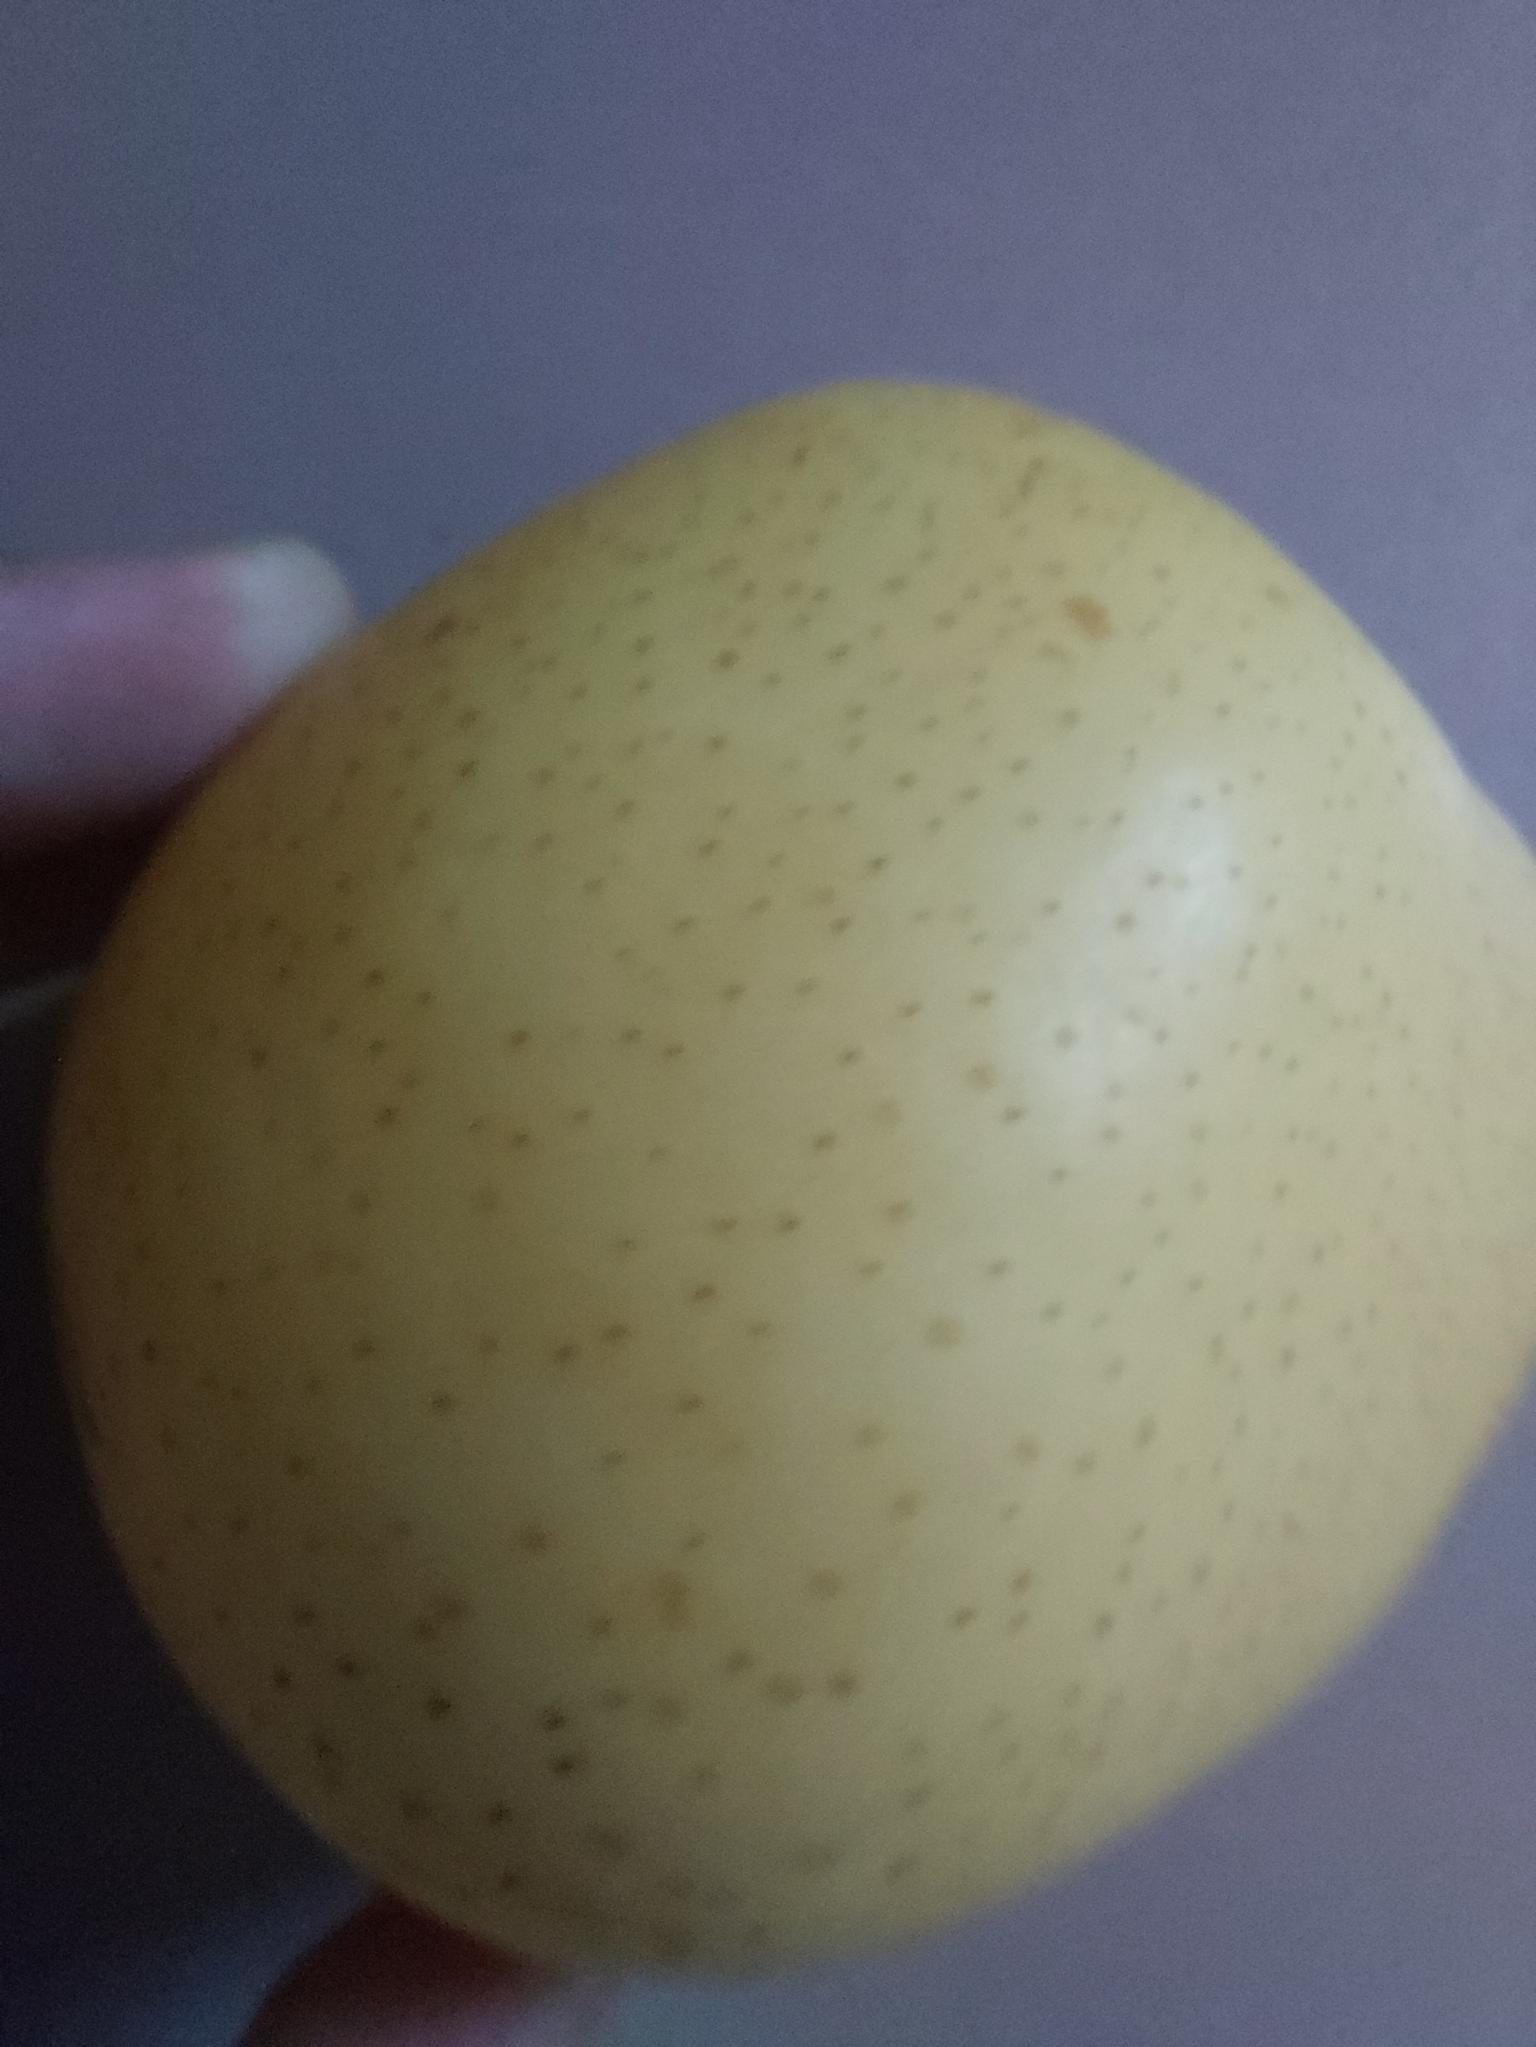Good Pear: (40, 377, 1536, 1995)
